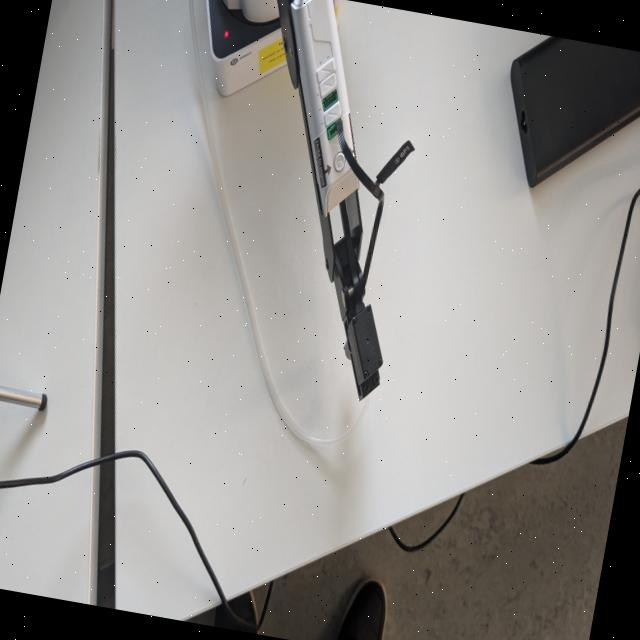Robot-end-effector-HF8z: (330, 295, 402, 413)
